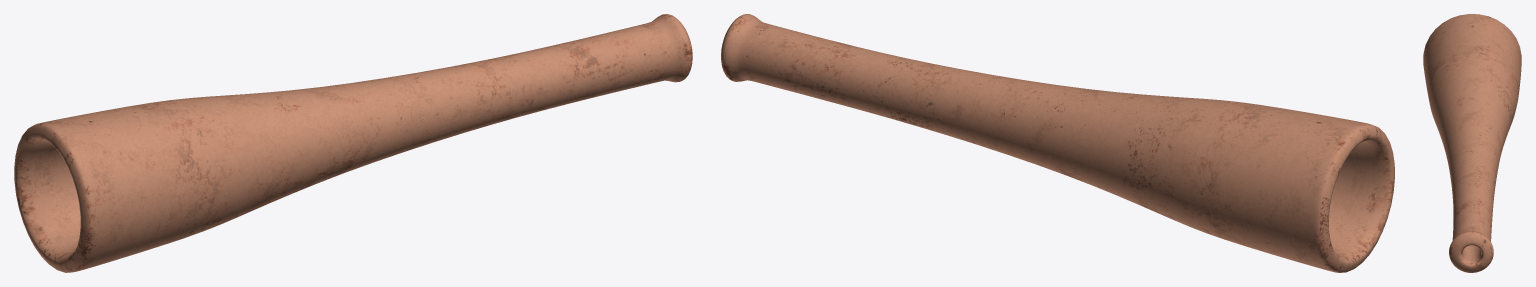
The model's file is trompeta de barro.glb.
3 views of the same model, side by side, from view 1: azimuth 30°, elevation 25°; view 2: azimuth 150°, elevation 25°; view 3: azimuth 270°, elevation 25° (orthographic). The views are drawn at different scales.
Visible parts, largest first — view 1: high_Material.001_0; view 2: high_Material.001_0; view 3: high_Material.001_0.
Boxes of the visible parts, bbox=[...] form: high_Material.001_0: bbox=[14, 14, 692, 272]; high_Material.001_0: bbox=[721, 14, 1394, 272]; high_Material.001_0: bbox=[1423, 14, 1521, 272].
Bounding box in the file's own units: 11.29 × 2.36 × 2.36.
Materials: 1 (1 with a texture image).
